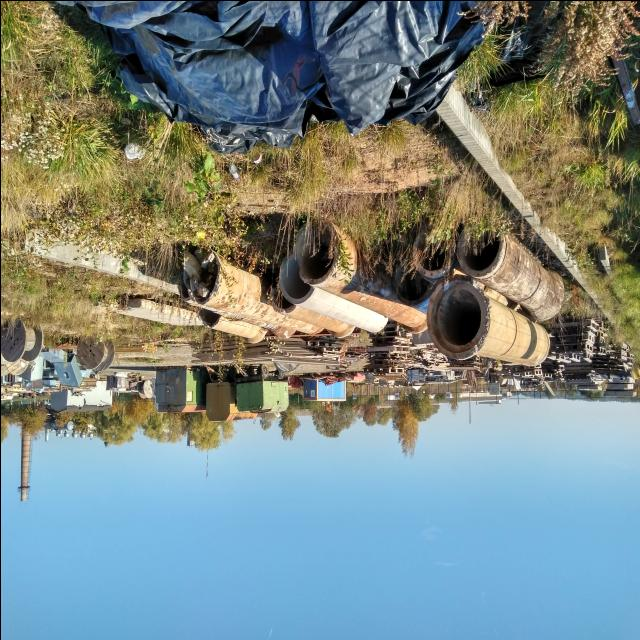entulho: (311, 0, 489, 131), (96, 0, 264, 120), (456, 221, 566, 317), (427, 281, 551, 364), (294, 220, 388, 304), (204, 299, 297, 342), (174, 248, 238, 310), (266, 330, 351, 376), (387, 250, 442, 310), (190, 336, 286, 366), (292, 305, 389, 331), (548, 316, 598, 364), (412, 228, 454, 282), (363, 328, 412, 374), (280, 252, 319, 308), (1, 317, 44, 362), (502, 362, 564, 390), (594, 342, 634, 382), (76, 336, 112, 369), (388, 308, 430, 332), (272, 278, 296, 317), (53, 357, 82, 387), (558, 363, 594, 386), (414, 346, 444, 370), (446, 355, 480, 373), (0, 357, 25, 379), (318, 374, 345, 386), (139, 378, 153, 400), (126, 370, 142, 382), (365, 372, 377, 384)
